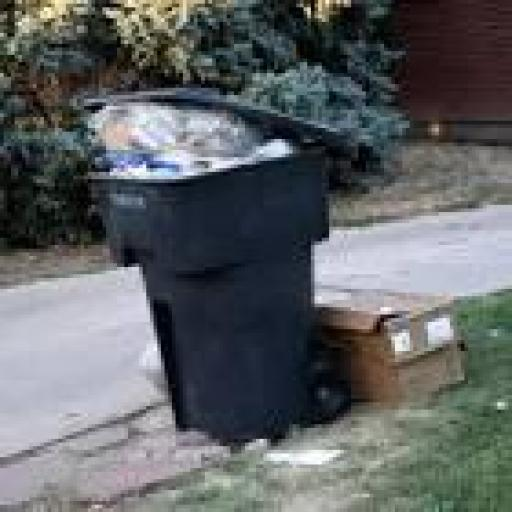poubelle_pleine: (74, 71, 372, 448)
